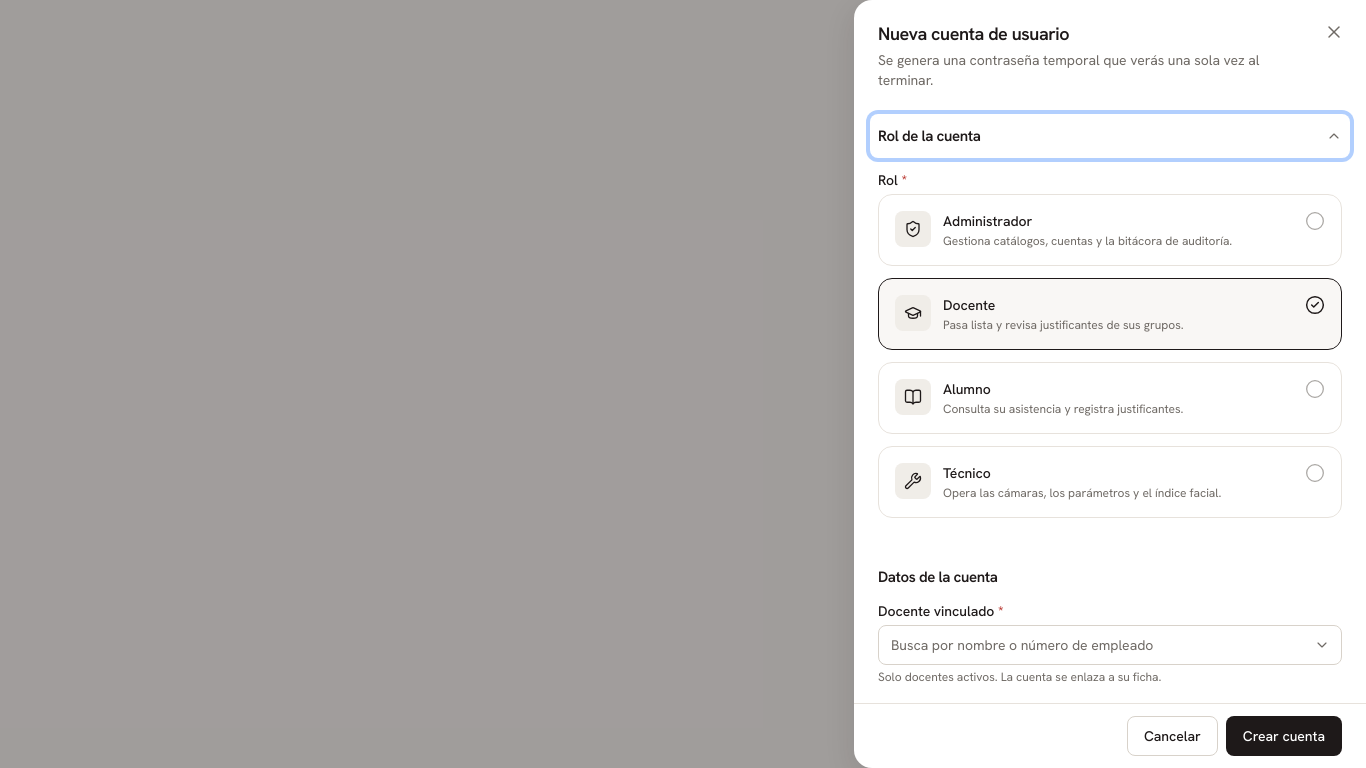
Test case: CrearUsuarioDialog › al elegir el docente prellena el correo con el institucional y lo dice (editable)
The width and height of the screenshot is (1366, 768).
Click the dropdown at (1110, 644), box [878, 624, 1342, 664]
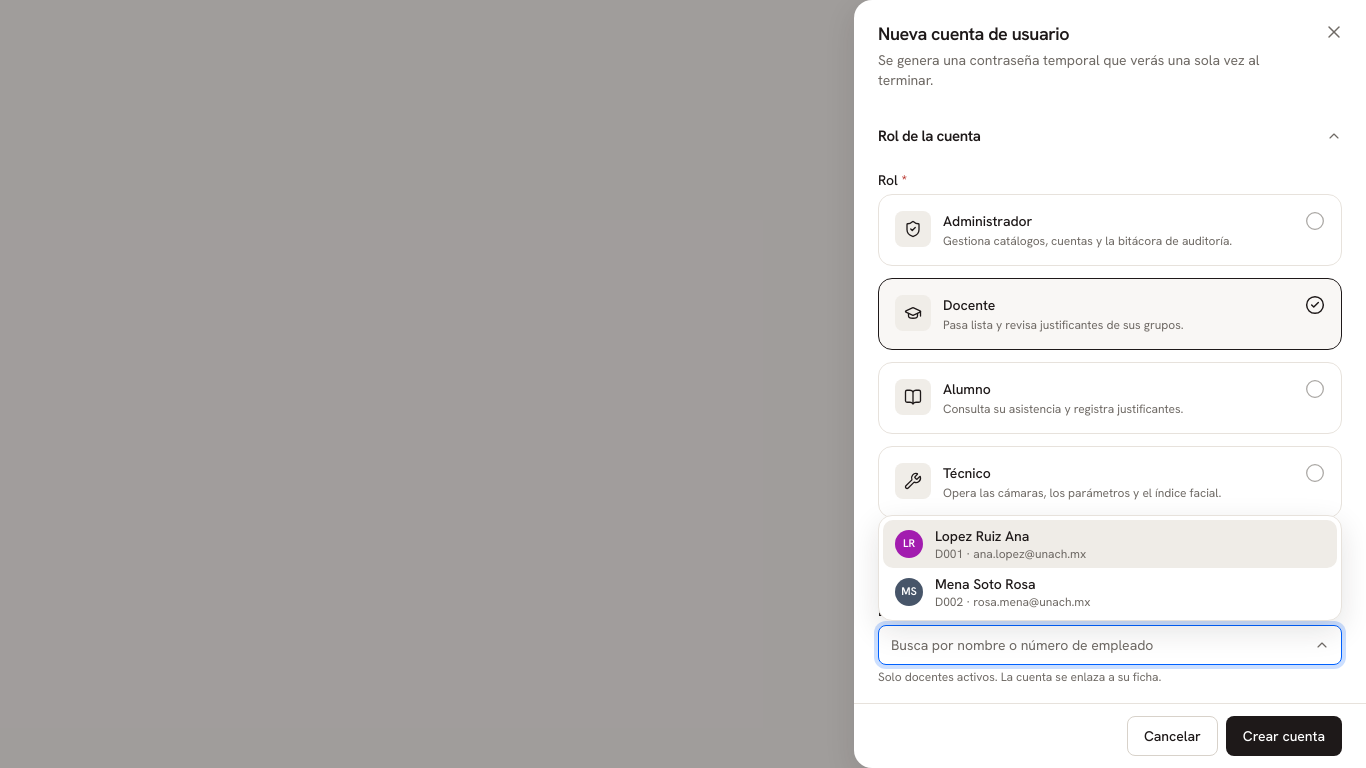
Click the option "MS Mena Soto Rosa D002 · rosa.mena@unach.mx" at (993, 592), box [895, 574, 1090, 610]
(page scrolled)
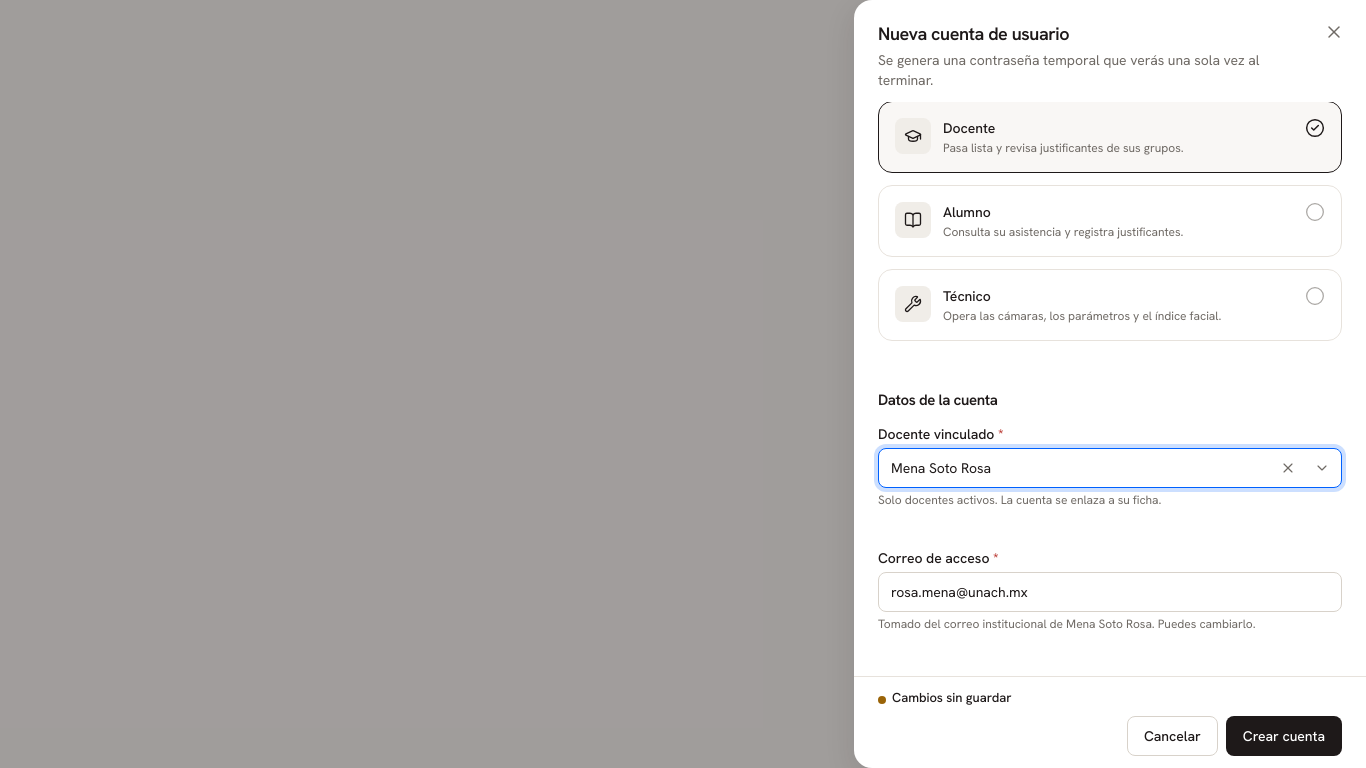
Expected: the field labelled "Correo de acceso *" holds "rosa.mena@unach.mx", [878, 572, 1342, 612]
Expected: the text "Tomado del correo institucional de Mena Soto Rosa. Puedes cambiarlo." is shown, [878, 616, 1256, 632]
